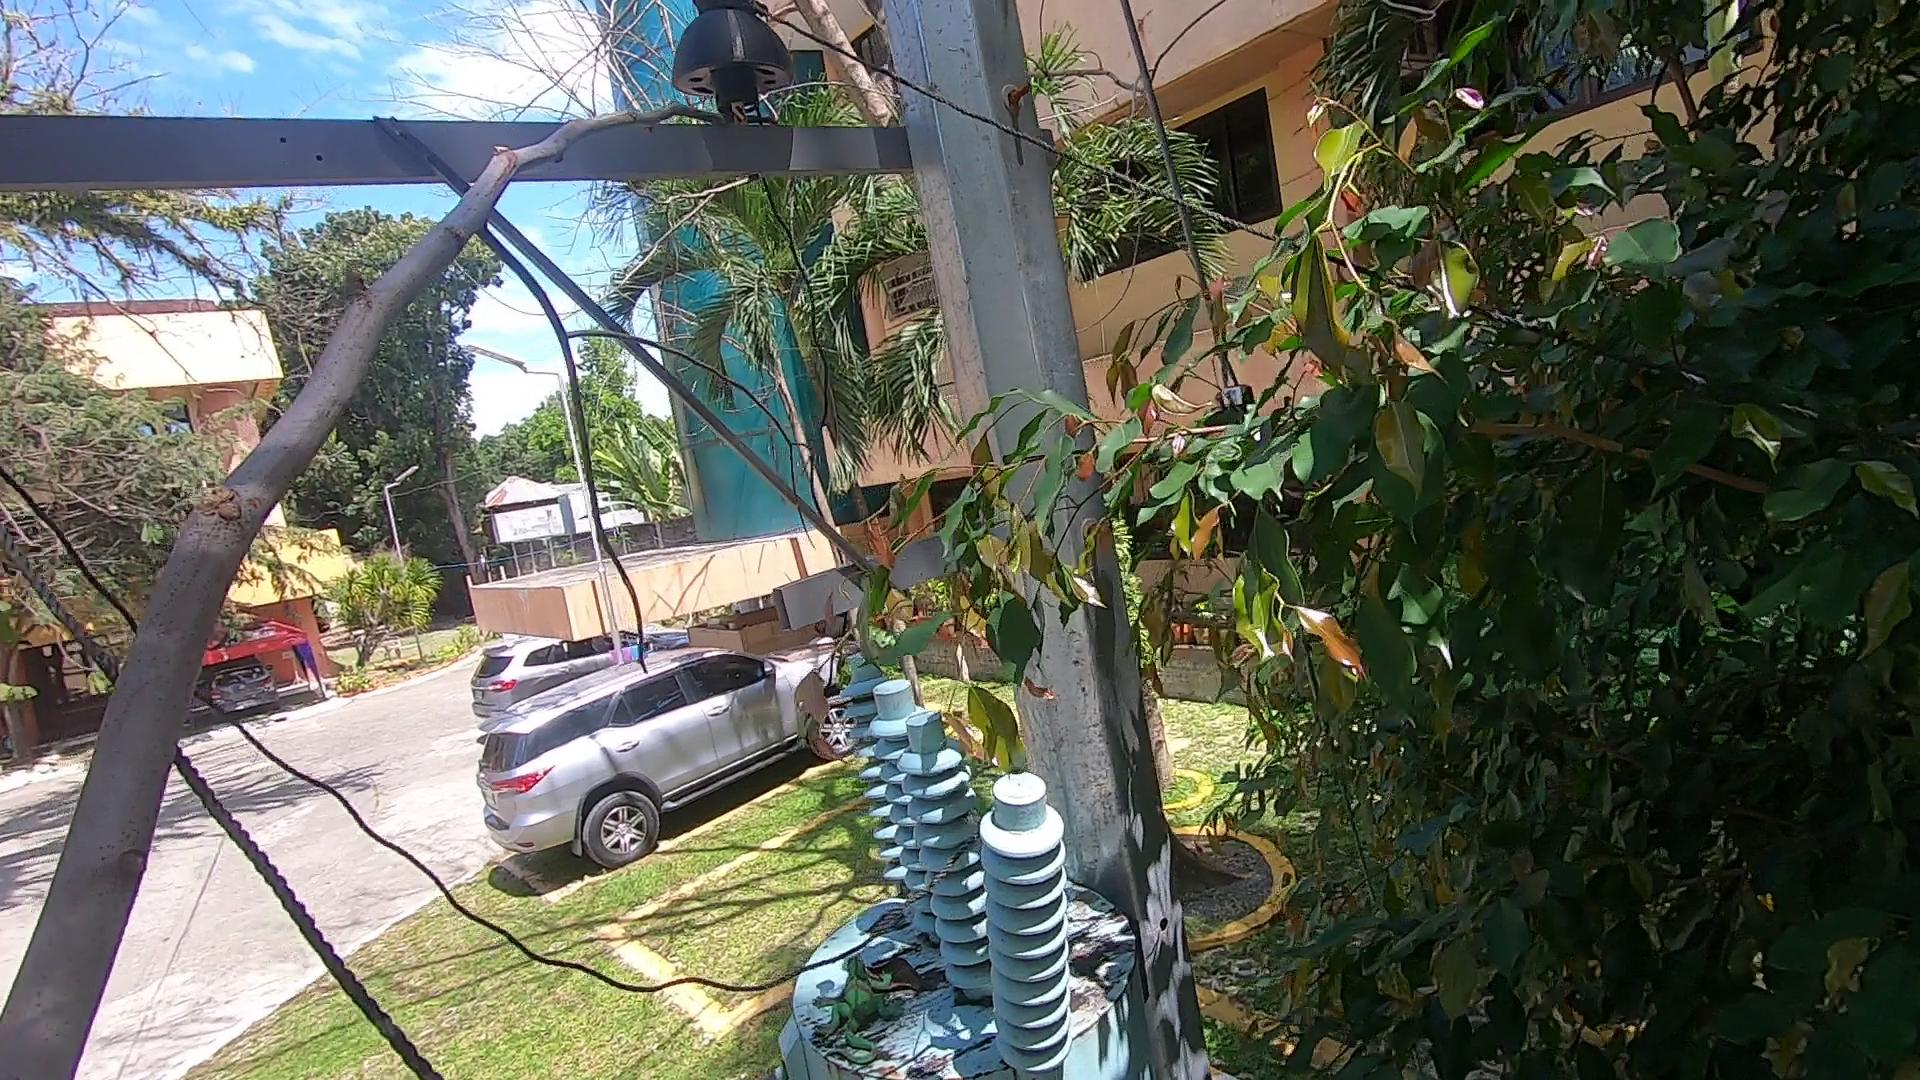branch with leaves: (812, 451, 1129, 818)
leaf: (1062, 913, 1139, 1001), (860, 938, 947, 1015)
tree branch: (15, 32, 731, 1073)
